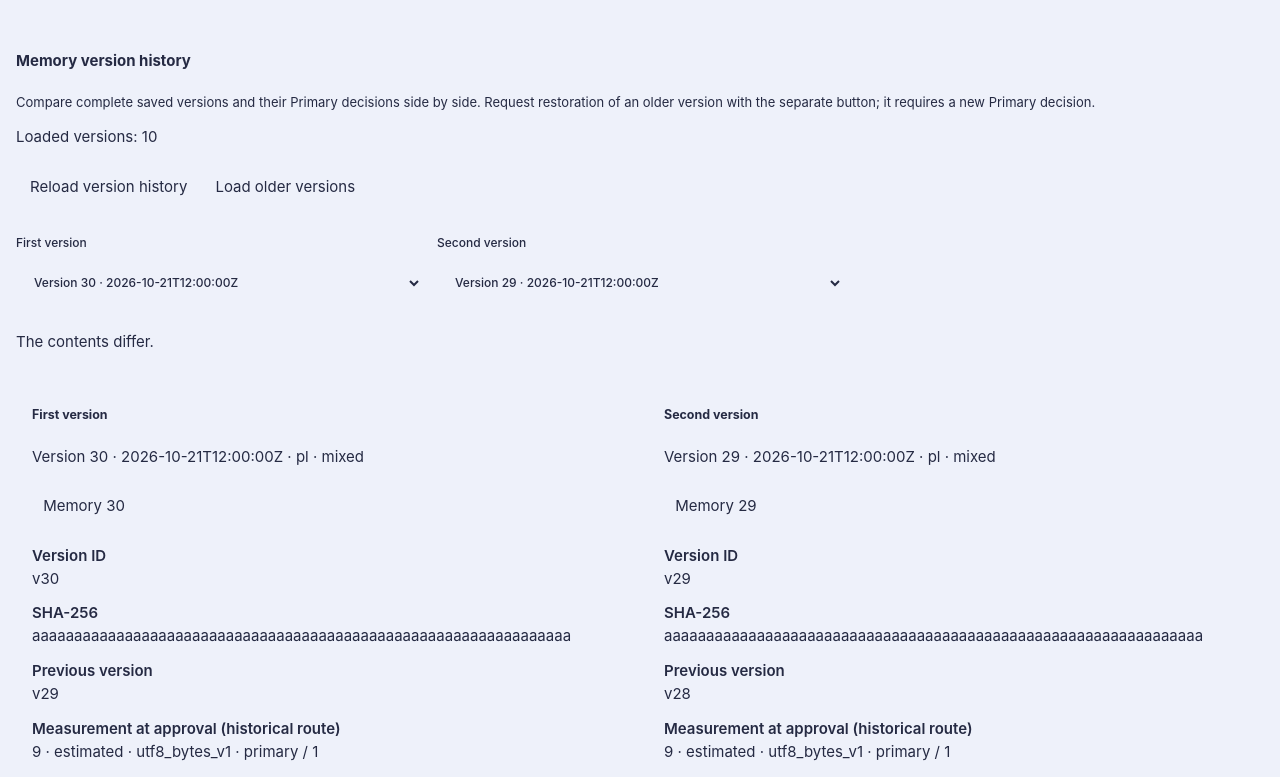
Test: rejects a repeated cursor without appending a duplicate page
Click the button "Load older versions": click(285, 186) [201,164,369,209]
(page scrolled)
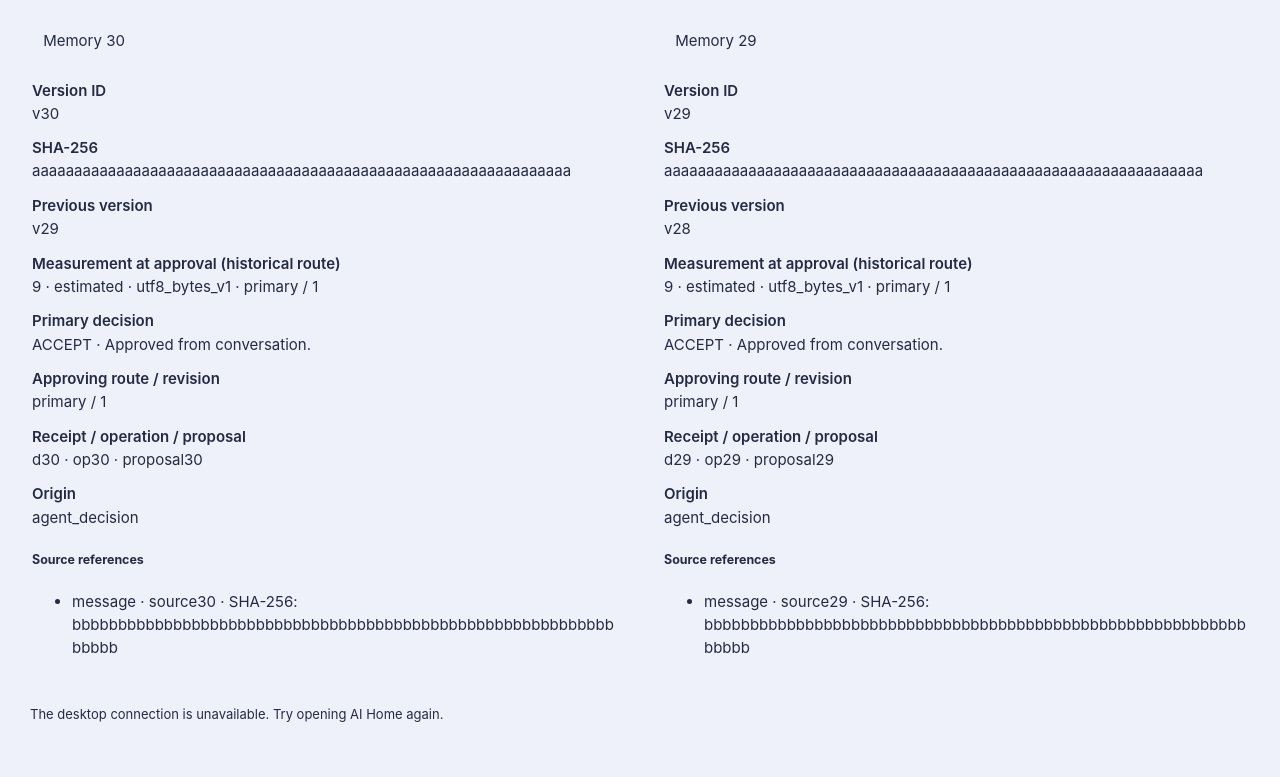
Expected: the message "The desktop connection is unavailable. Try opening AI Home again." is shown, [30,706,443,722]
